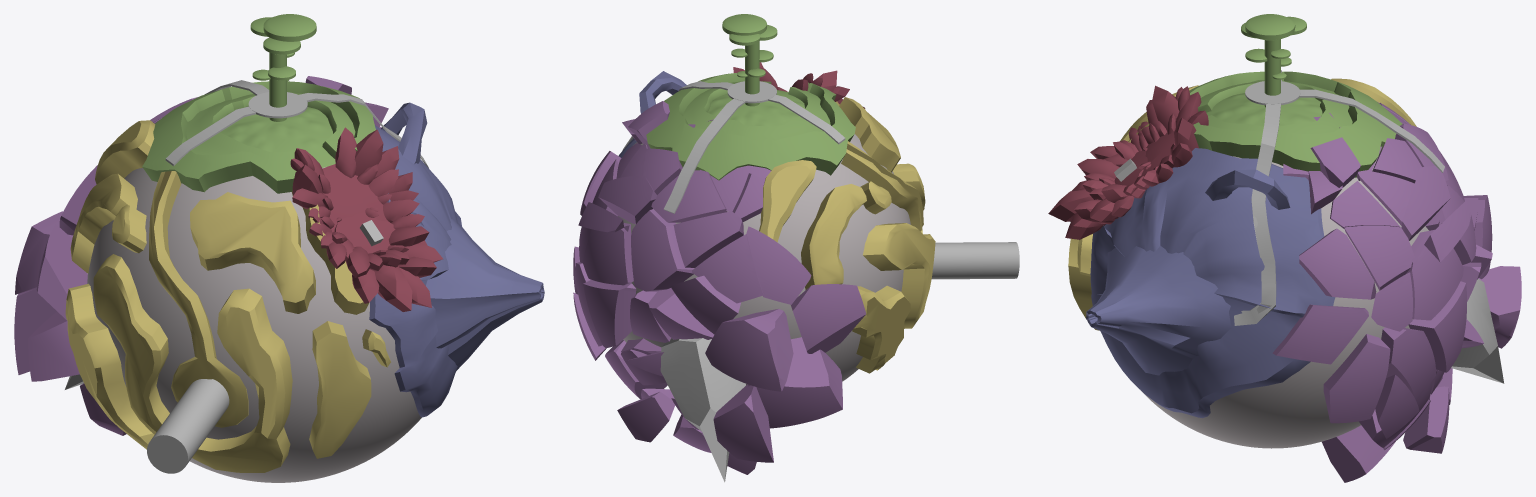
Rendered from PlaneteSwapy.fbx.
The picture shows the model from 3 angles, left to right: view 1: azimuth 30°, elevation 25°; view 2: azimuth 150°, elevation 25°; view 3: azimuth 270°, elevation 25°; orthographic projection. The views are drawn at different scales.
Visible parts, largest first — view 1: Circle, planèteInvisible., Pic, Sphere.001_cell.122, ring, Plane.001, Plane, tourFusée, SolBounce, arbre, Plateforme, Solrepulse (+2 smaller); view 2: Sphere.001_cell.122, Circle, ring, planèteInvisible., météorite, Plateforme, tourFusée, arbre, SolBounce, Pic, Plane.002; view 3: Sphere.001_cell.122, Plane.001, Plane, planèteInvisible., ring, Pic, Plateforme, arbre, Circle, météorite, SolBounce, Plane.002 (+1 smaller).
Boxes of the visible parts, left/top/right/bottom form: Circle: left=65, top=120, right=390, bottom=472; planèteInvisible.: left=87, top=167, right=421, bottom=482; Pic: left=290, top=127, right=442, bottom=311; Sphere.001_cell.122: left=14, top=76, right=388, bottom=435; ring: left=142, top=81, right=375, bottom=193; Plane.001: left=369, top=125, right=461, bottom=417; Plane: left=426, top=218, right=544, bottom=371; tourFusée: left=147, top=379, right=229, bottom=473; SolBounce: left=221, top=106, right=335, bottom=167; arbre: left=250, top=14, right=316, bottom=121; Plateforme: left=165, top=80, right=428, bottom=168; Solrepulse: left=322, top=164, right=388, bottom=231; Sphere.001_cell.122: left=573, top=101, right=865, bottom=474; Circle: left=759, top=97, right=935, bottom=373; ring: left=646, top=73, right=855, bottom=180; planèteInvisible.: left=618, top=134, right=910, bottom=385; météorite: left=660, top=338, right=745, bottom=482; Plateforme: left=622, top=81, right=845, bottom=213; tourFusée: left=931, top=242, right=1019, bottom=279; arbre: left=722, top=14, right=777, bottom=106; SolBounce: left=708, top=90, right=804, bottom=126; Pic: left=733, top=62, right=865, bottom=108; Plane.002: left=639, top=71, right=686, bottom=113; Sphere.001_cell.122: left=1272, top=102, right=1521, bottom=482; Plane.001: left=1090, top=148, right=1335, bottom=418; Plane: left=1086, top=246, right=1231, bottom=375; planèteInvisible.: left=1140, top=156, right=1428, bottom=448; ring: left=1189, top=71, right=1402, bottom=177; Pic: left=1048, top=85, right=1208, bottom=239; Plateforme: left=1234, top=70, right=1444, bottom=325; arbre: left=1241, top=14, right=1306, bottom=107; Circle: left=1068, top=78, right=1416, bottom=330; météorite: left=1451, top=279, right=1504, bottom=383; SolBounce: left=1206, top=93, right=1322, bottom=126; Plane.002: left=1205, top=169, right=1290, bottom=209.
Bounding box in the file's own units: 2429 × 2791 × 2632.
